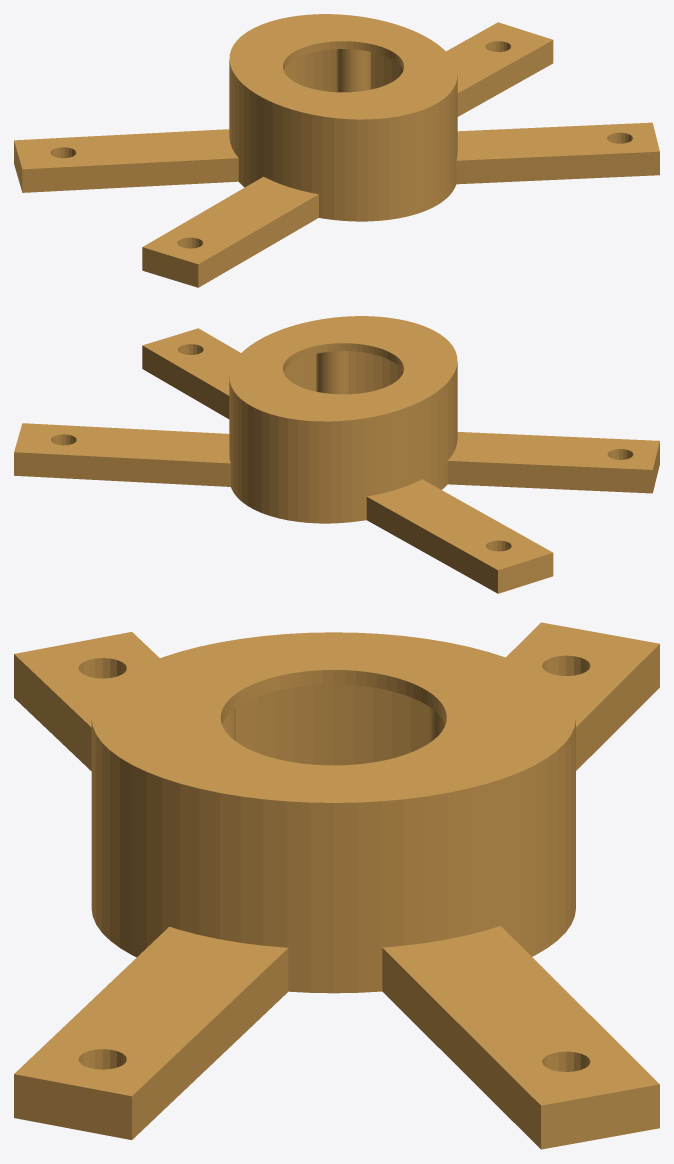
File: car-wheel-support.glb
3 renders of one model, top to bottom at view 1: azimuth 30°, elevation 25°; view 2: azimuth 150°, elevation 25°; view 3: azimuth 270°, elevation 25°, orthographic. The views are drawn at different scales.
Parts seen in each view (by area): view 1: Mesh_Mesh_head_geo.001_lambert2SG.001; view 2: Mesh_Mesh_head_geo.001_lambert2SG.001; view 3: Mesh_Mesh_head_geo.001_lambert2SG.001.
Part boxes in pixels (x1=…): Mesh_Mesh_head_geo.001_lambert2SG.001: x1=14, y1=14, x2=659, y2=287; Mesh_Mesh_head_geo.001_lambert2SG.001: x1=14, y1=316, x2=659, y2=593; Mesh_Mesh_head_geo.001_lambert2SG.001: x1=14, y1=622, x2=659, y2=1149.
Size of the model in its own units: 70.81 by 13 by 40.
